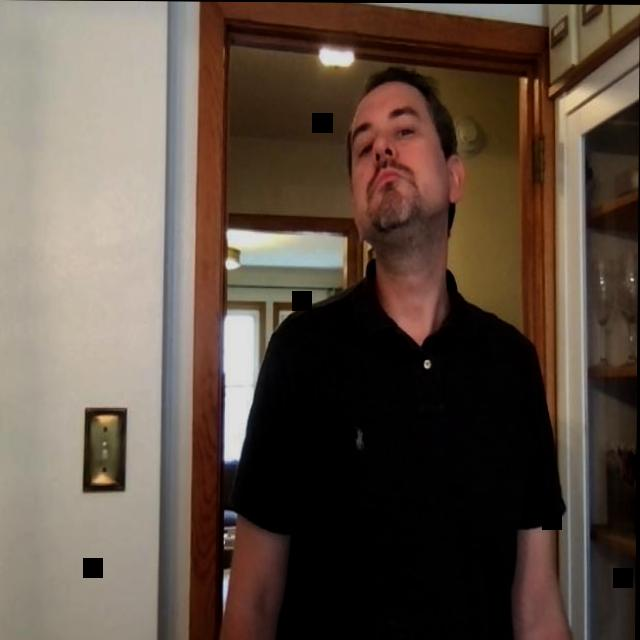NO-Mask: (346, 68, 461, 241)
